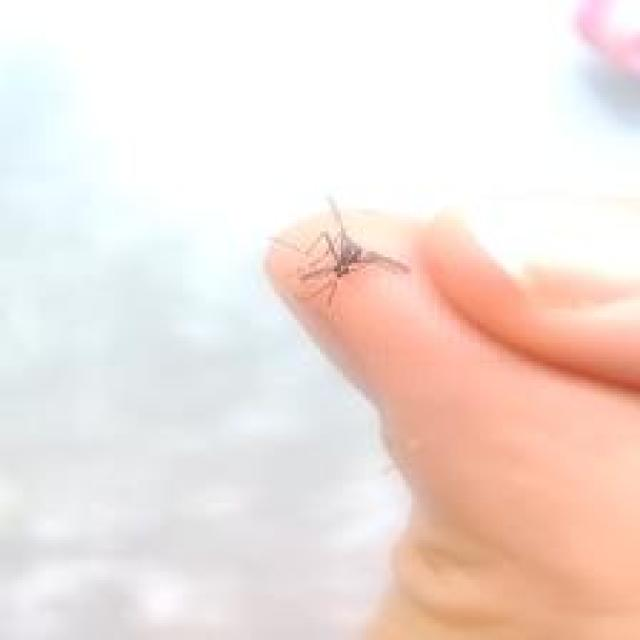Aedes albopictus: (286, 193, 411, 307)
